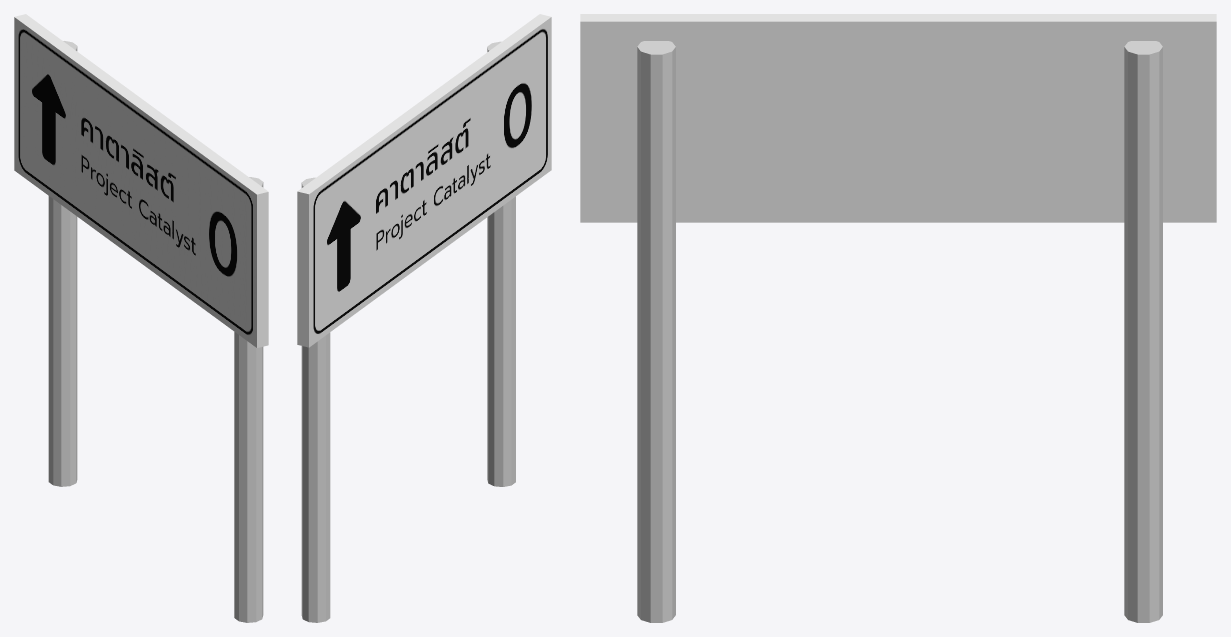
The model's file is WaySign.glb.
The picture shows the model from 3 angles, left to right: view 1: azimuth 30°, elevation 25°; view 2: azimuth 150°, elevation 25°; view 3: azimuth 270°, elevation 25°; orthographic projection. The views are drawn at different scales.
Visible parts, largest first — view 1: Cube, Cylinder.001, Cylinder; view 2: Cube, Cylinder, Cylinder.001; view 3: Cube, Cylinder, Cylinder.001.
Boxes of the visible parts, box(x1,y1,x2,y2) form: Cube: box(14, 14, 268, 347); Cylinder.001: box(234, 177, 263, 622); Cylinder: box(48, 41, 77, 486); Cube: box(297, 14, 551, 347); Cylinder: box(301, 177, 330, 622); Cylinder.001: box(487, 41, 515, 486); Cube: box(580, 14, 1216, 222); Cylinder: box(1124, 41, 1162, 622); Cylinder.001: box(637, 41, 675, 622).
Bounding box in the file's own units: 0.4484 × 5.82 × 5.71.
3 materials, 1 textured.
